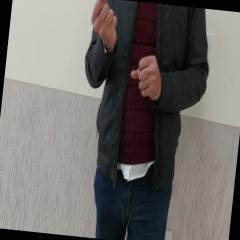not-gloved: (127, 52, 164, 101), (88, 0, 121, 51)
